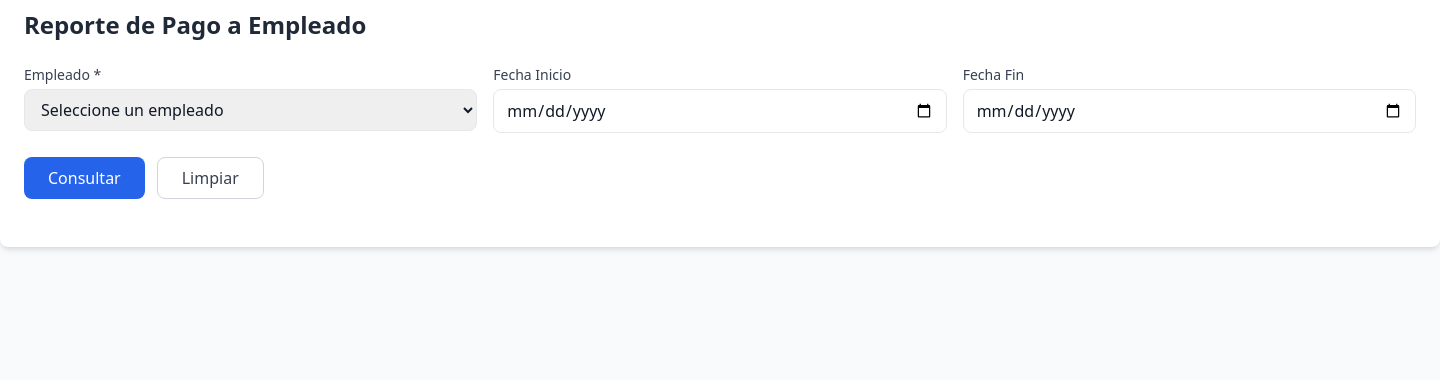
Test case: PagoEmpleadoReport › deshabilita el botón mientras carga
Select "Juan Pérez" in the dropdown at (251, 110), box [24, 89, 477, 131]
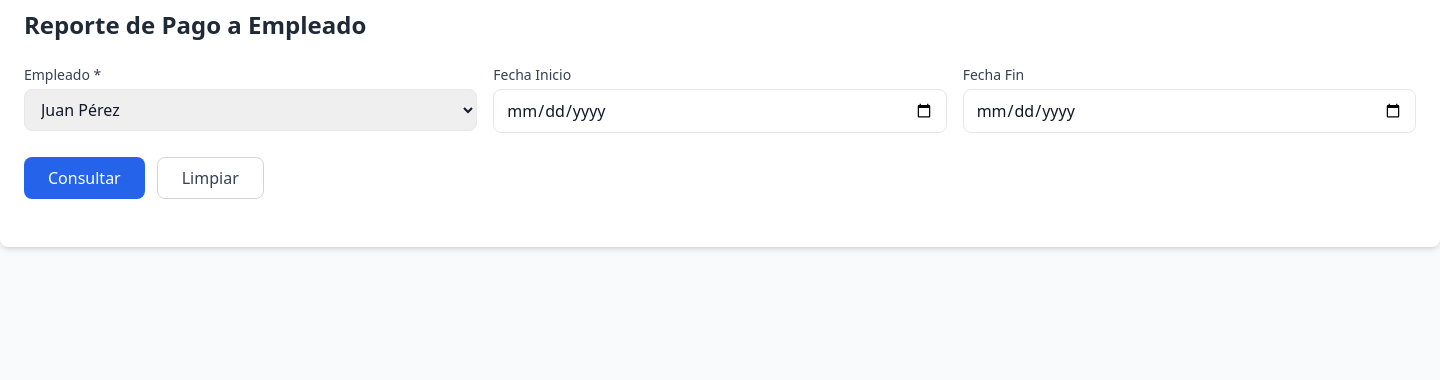
Hacer clic para iniciar carga
Click the button "Consultar".
click(84, 178)  # box [24, 157, 145, 199]
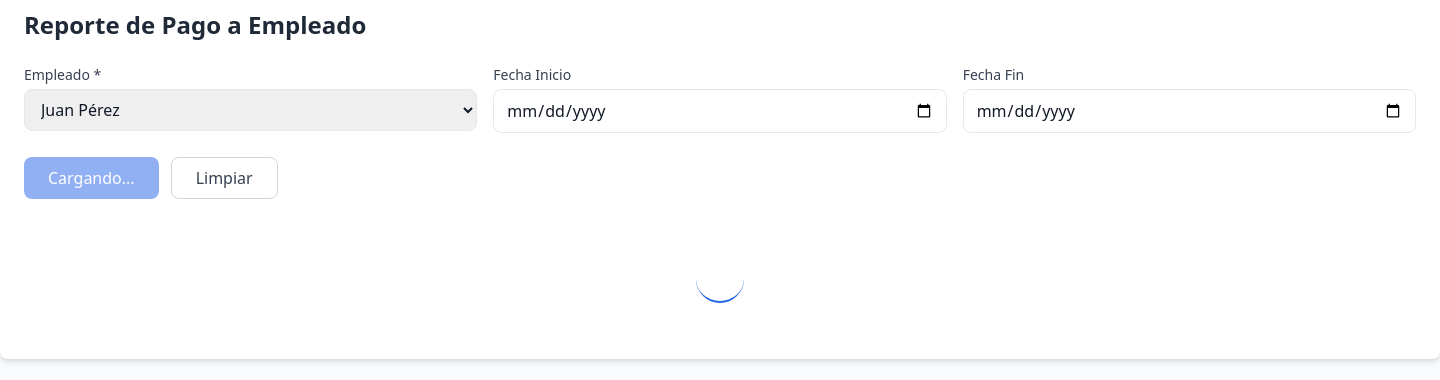
Check: the button "Cargando..." is disabled, box [24, 157, 159, 199]
